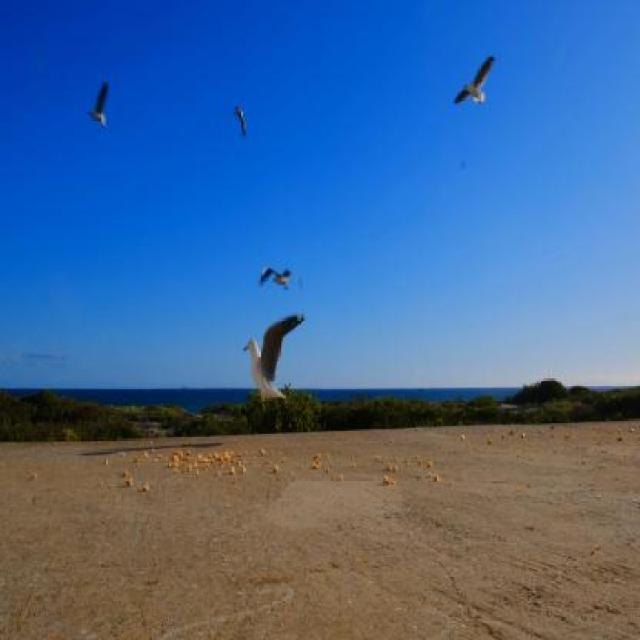bird: (231, 302, 309, 424), (436, 38, 501, 116), (245, 260, 310, 294), (85, 75, 114, 138), (227, 99, 253, 146)
